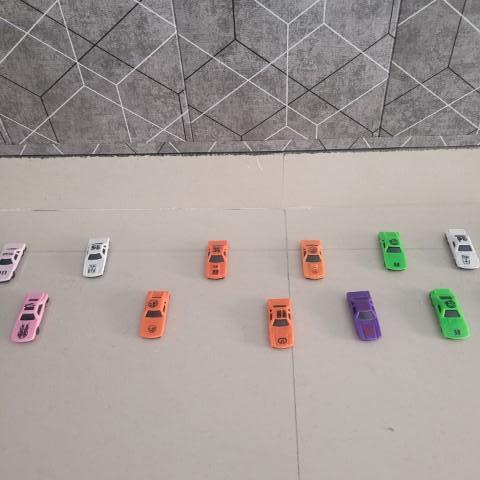car: (429, 282, 471, 339), (10, 287, 52, 344), (347, 288, 385, 342), (138, 287, 172, 340), (372, 228, 410, 272), (445, 225, 480, 272), (82, 235, 113, 283), (267, 299, 295, 350), (203, 236, 231, 279), (299, 238, 326, 282)
